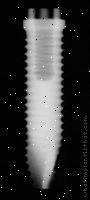Zimmer: (20, 18, 66, 191)
